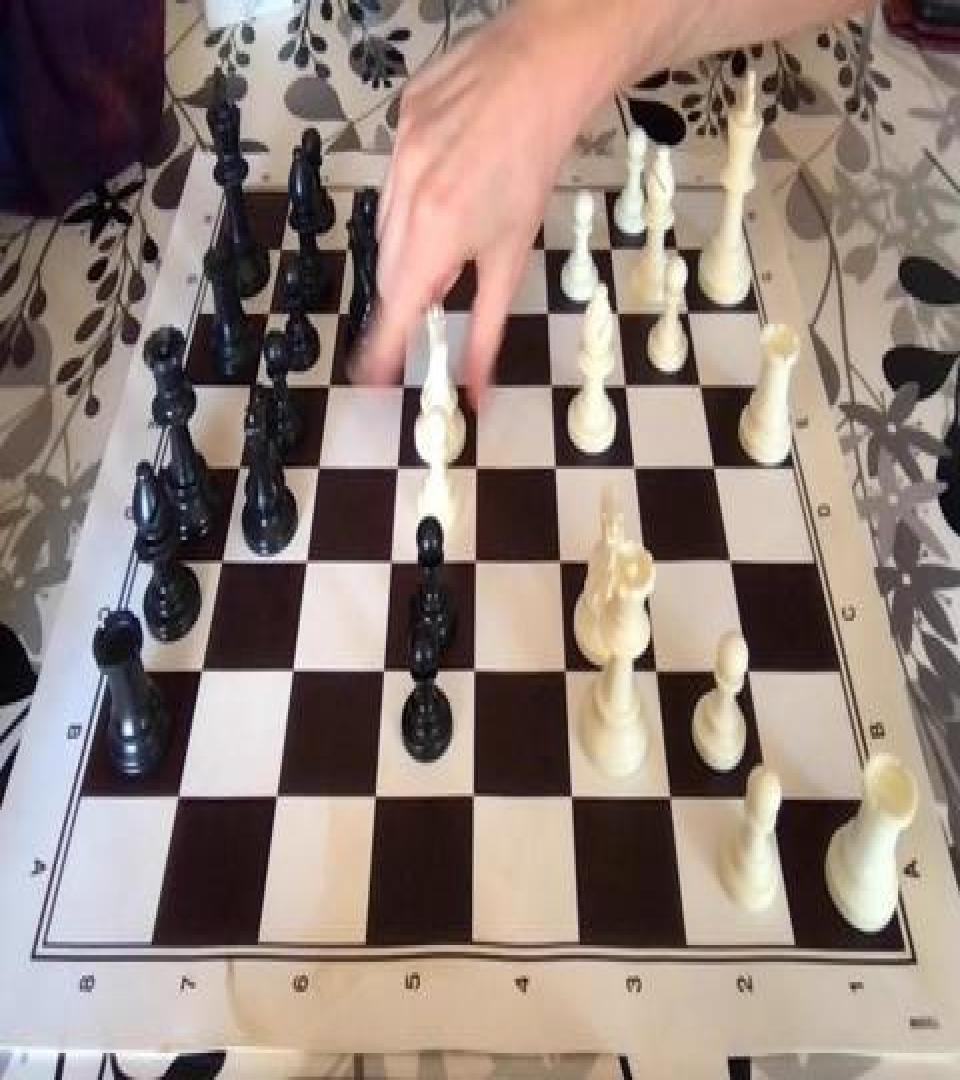xcorner: (167, 776, 191, 817), (265, 776, 289, 817), (760, 781, 784, 822), (281, 651, 305, 692), (372, 651, 396, 692), (463, 653, 487, 694), (555, 653, 579, 694), (647, 653, 671, 694), (295, 543, 319, 584), (380, 543, 404, 584), (465, 543, 489, 584), (550, 545, 574, 586), (635, 545, 659, 586), (721, 545, 745, 586), (244, 366, 268, 407), (318, 366, 342, 407), (392, 366, 416, 407), (467, 366, 491, 407), (363, 778, 387, 818), (462, 778, 486, 818), (561, 780, 585, 820), (660, 780, 684, 820), (190, 650, 214, 690), (739, 655, 763, 695), (211, 542, 235, 582), (228, 449, 252, 489), (307, 449, 331, 489), (386, 449, 410, 489), (466, 449, 490, 489), (545, 451, 569, 491), (625, 451, 649, 491), (705, 451, 729, 491), (542, 368, 566, 408), (616, 368, 640, 408), (691, 368, 715, 408), (258, 294, 282, 334), (327, 294, 351, 334), (398, 294, 422, 334), (468, 294, 492, 334), (538, 294, 562, 334), (609, 294, 633, 334), (679, 294, 703, 334), (270, 228, 294, 268), (336, 228, 360, 268), (402, 228, 426, 268), (468, 228, 492, 268), (535, 230, 559, 270), (602, 230, 626, 270), (668, 230, 692, 270)
